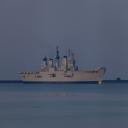Portanaves: (18, 42, 107, 85)
